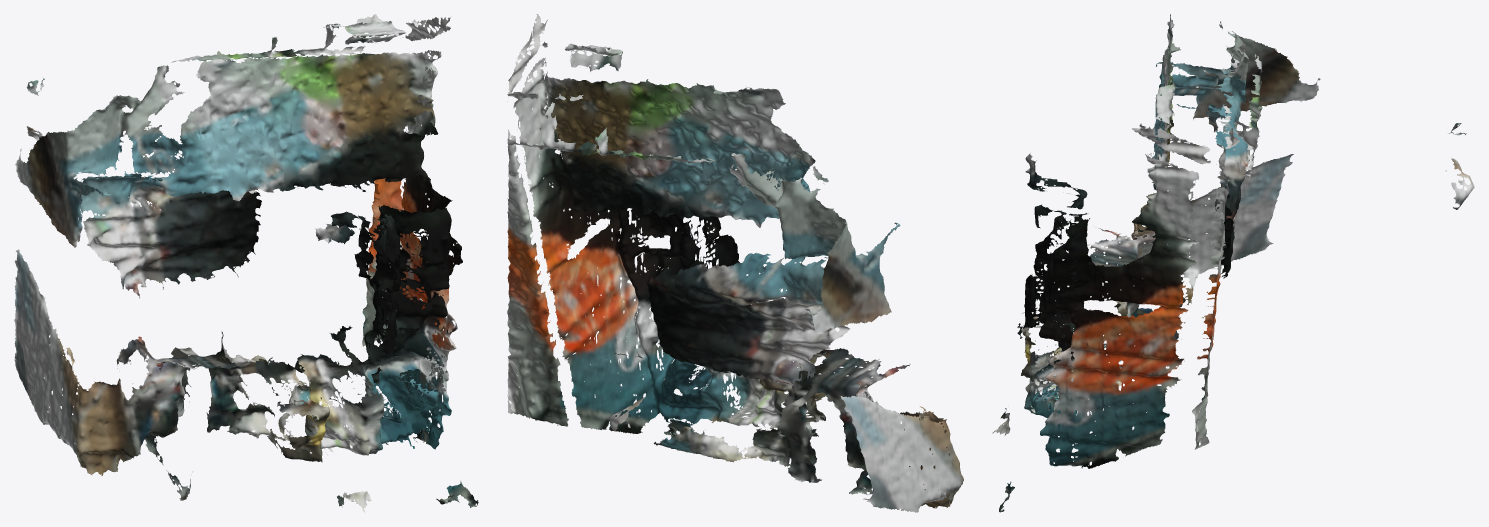
File: color_model_f006_20251226_165922.obj
3 views of the same model, side by side, from view 1: azimuth 30°, elevation 25°; view 2: azimuth 150°, elevation 25°; view 3: azimuth 270°, elevation 25° (orthographic). The views are drawn at different scales.
Size of the model in its own units: 2.33 by 2.49 by 2.64.
